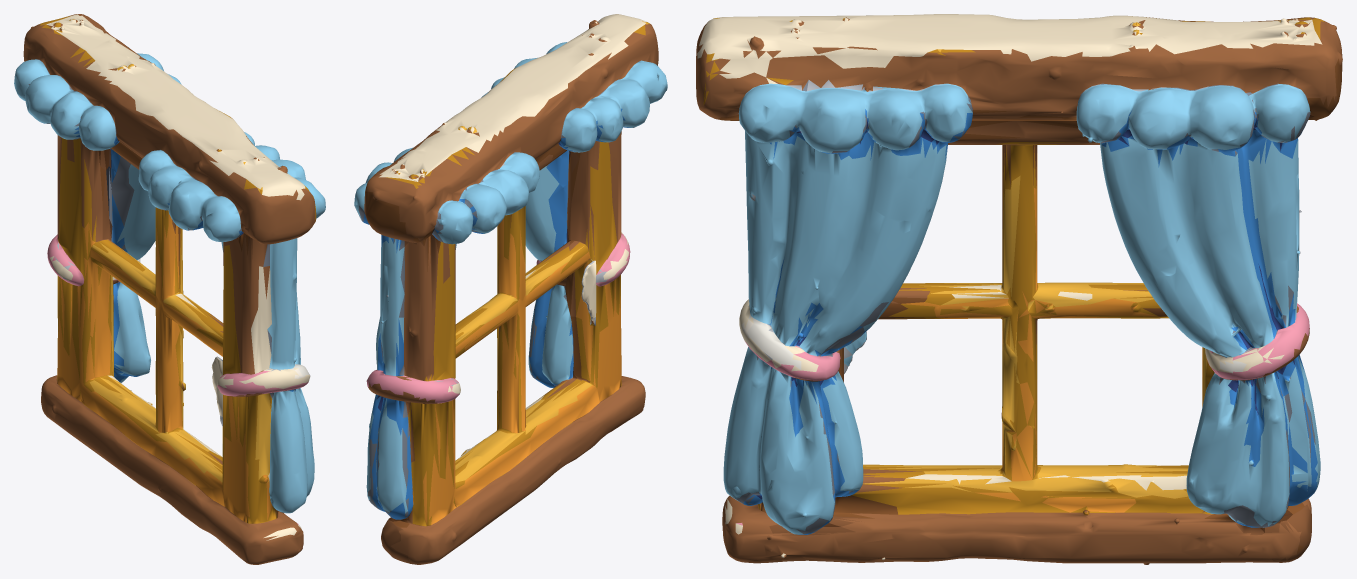
The model's file is SM_window_curtain.fbx.
3 renders of one model, left to right at view 1: azimuth 30°, elevation 25°; view 2: azimuth 150°, elevation 25°; view 3: azimuth 270°, elevation 25°, orthographic. The views are drawn at different scales.
Parts seen in each view (by area): view 1: SM_window_curtain; view 2: SM_window_curtain; view 3: SM_window_curtain.
Boxes of the visible parts, x1=… form: SM_window_curtain: x1=14, y1=14, x2=325, y2=564; SM_window_curtain: x1=354, y1=14, x2=667, y2=564; SM_window_curtain: x1=696, y1=14, x2=1342, y2=564.
Size of the model in its own units: 49.4 by 140 by 155.
Materials: 1 (1 with a texture image).
